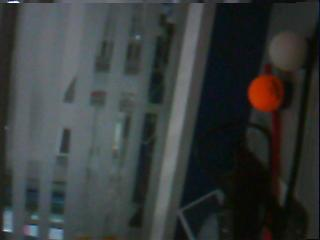oball: (247, 74, 282, 111)
